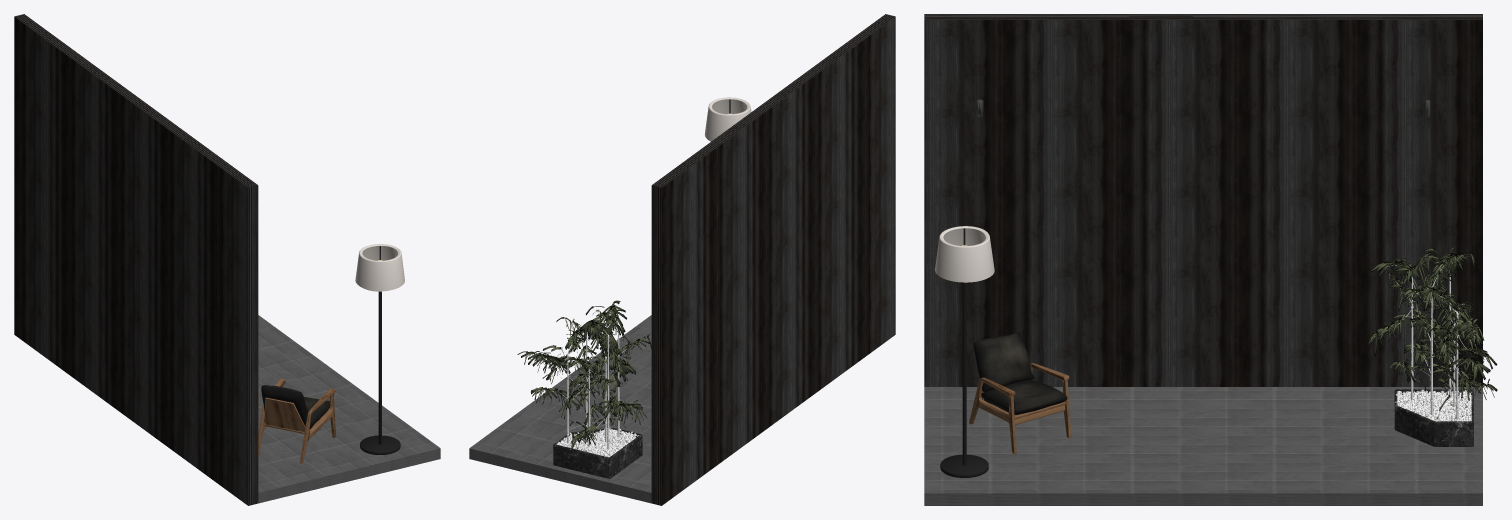
The model's file is roomblackwall13-v3.glb.
3 renders of one model, left to right at view 1: azimuth 30°, elevation 25°; view 2: azimuth 150°, elevation 25°; view 3: azimuth 270°, elevation 25°, orthographic. The views are drawn at different scales.
Parts seen in each view (by area): view 1: Cube.001, Cube, modern_arm_chair_01, Spot lamp-01.001, FloorLamp_Stem; view 2: Cube.001, Cube, plant.bamboo, Spot lamp-01.001; view 3: Cube.001, Cube, plant.bamboo, modern_arm_chair_01, Spot lamp-01.001, FloorLamp_Stem.
Part boxes in pixels (x1,y1,x2,y2): Cube.001: [14, 14, 258, 505]; Cube: [258, 315, 440, 503]; modern_arm_chair_01: [258, 378, 335, 463]; Spot lamp-01.001: [355, 244, 404, 291]; FloorLamp_Stem: [360, 246, 400, 454]; Cube.001: [651, 14, 895, 505]; Cube: [469, 315, 651, 503]; plant.bamboo: [517, 300, 651, 478]; Spot lamp-01.001: [556, 97, 751, 457]; Cube.001: [924, 14, 1482, 386]; Cube: [924, 387, 1482, 505]; plant.bamboo: [1367, 245, 1497, 446]; modern_arm_chair_01: [969, 332, 1071, 453]; Spot lamp-01.001: [935, 99, 1471, 421]; FloorLamp_Stem: [940, 228, 988, 477].
Bounding box in the file's own units: 3.8 × 6 × 8.21.
Materials: 11 (11 with a texture image).
